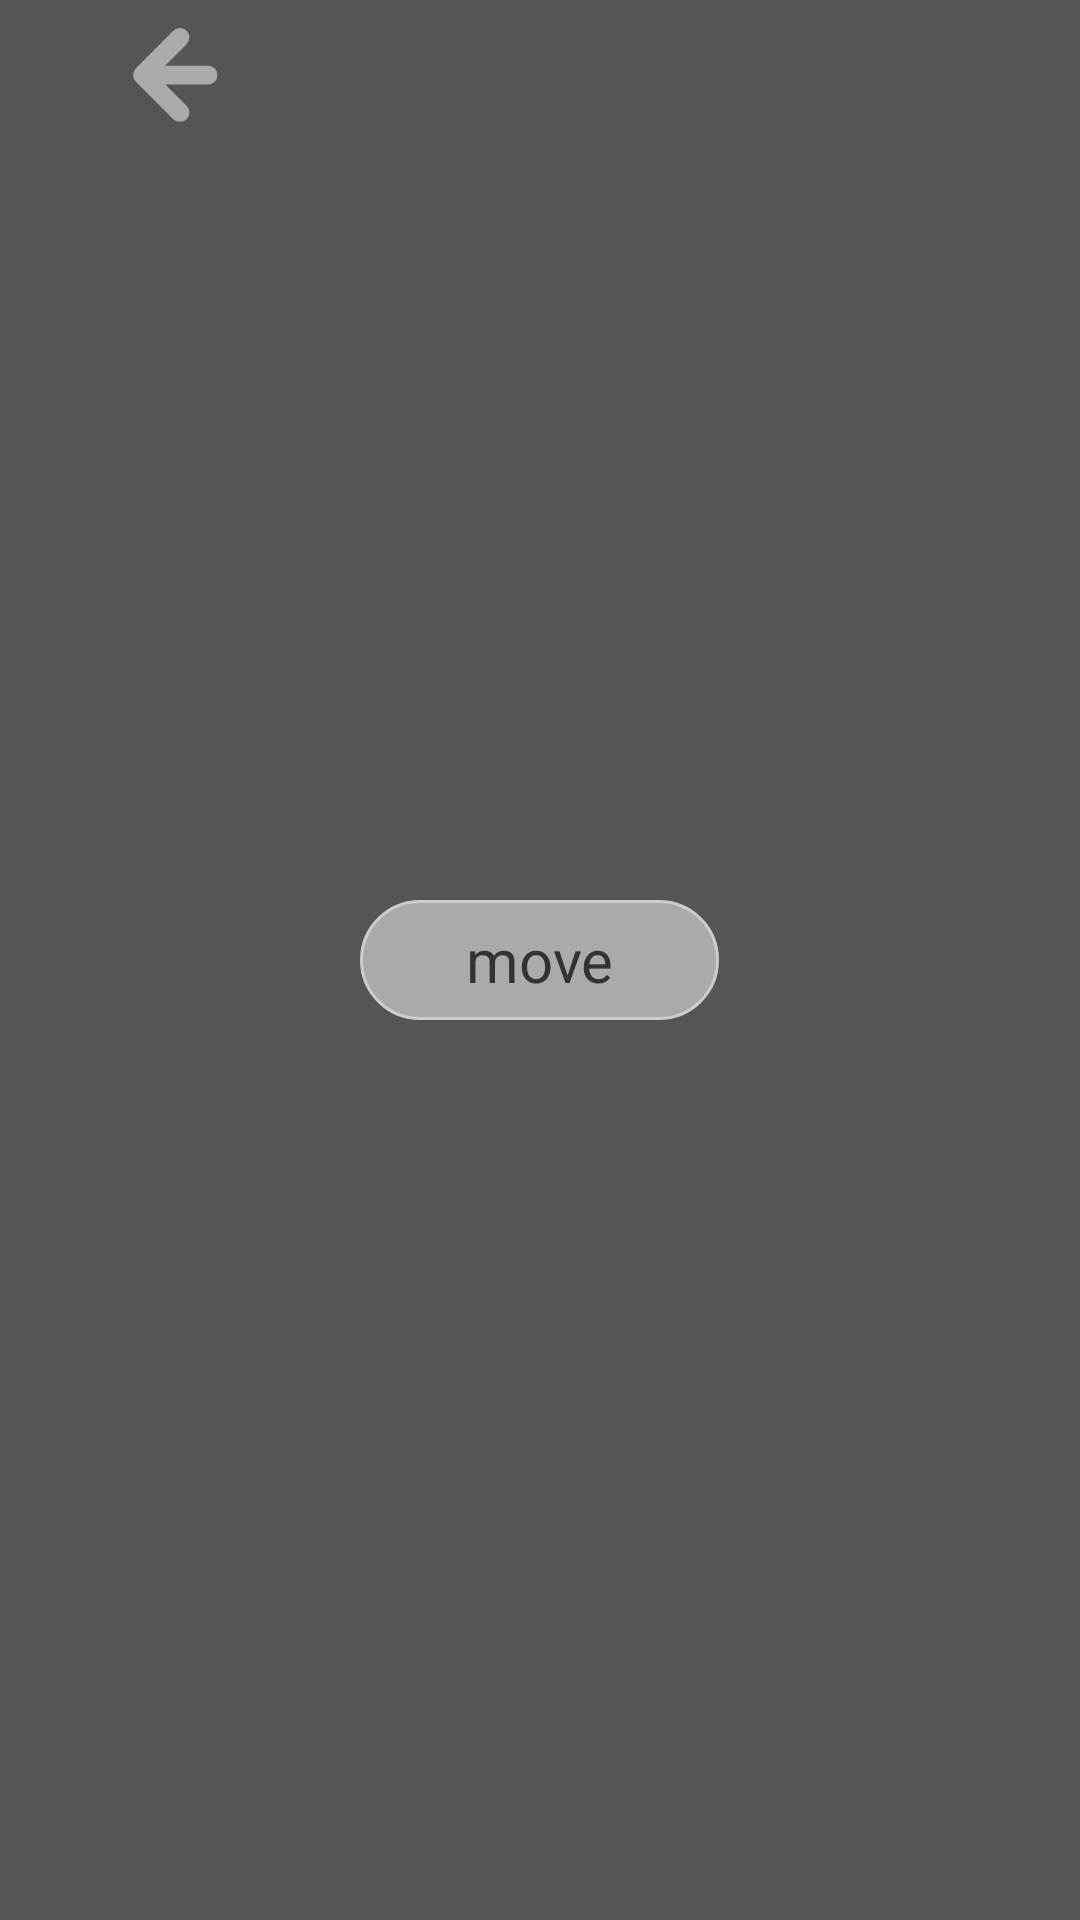

Named icons in this screenshot (1080*1920) and their centers, (x=x, y=y):
back: (x=175, y=75)
